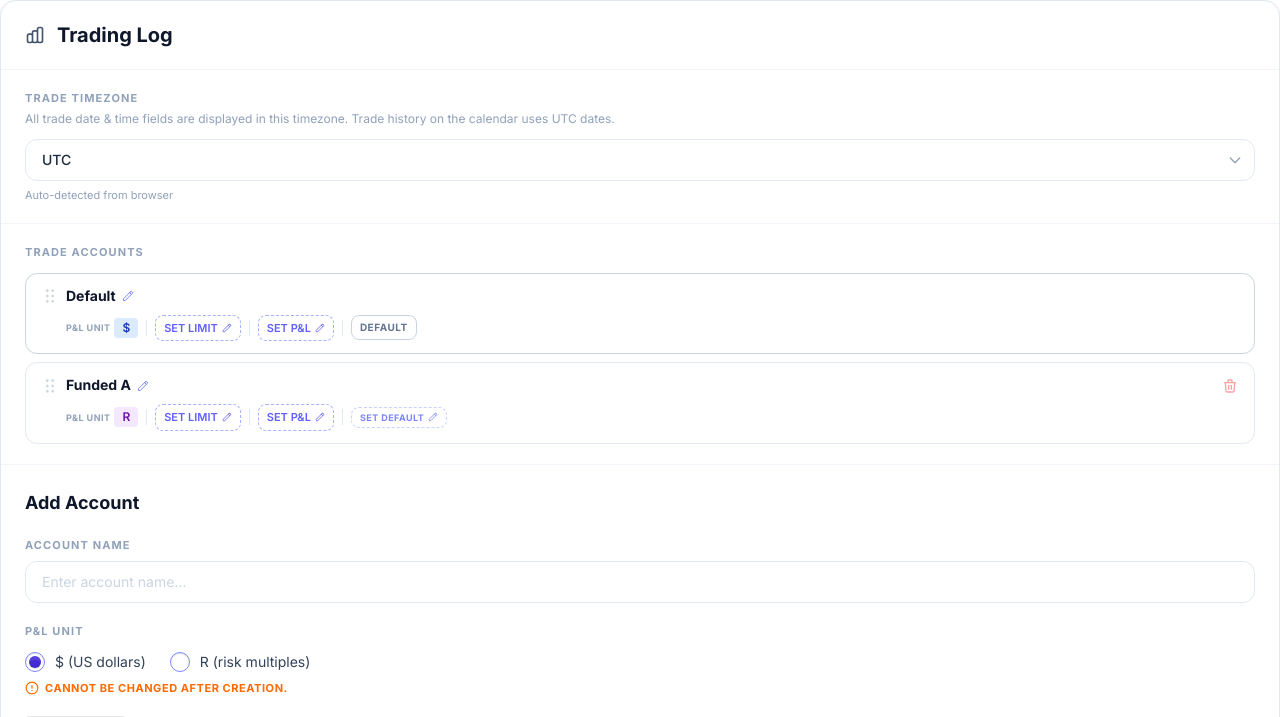
Test: TradingLogSettings › cancels delete on Cancel click
The image size is (1280, 717).
Expected: the text "Funded A" is shown, [66, 375, 131, 396]
Step 1. Click the button named "Delete Funded A" → (1230, 386), box [1222, 378, 1238, 394]
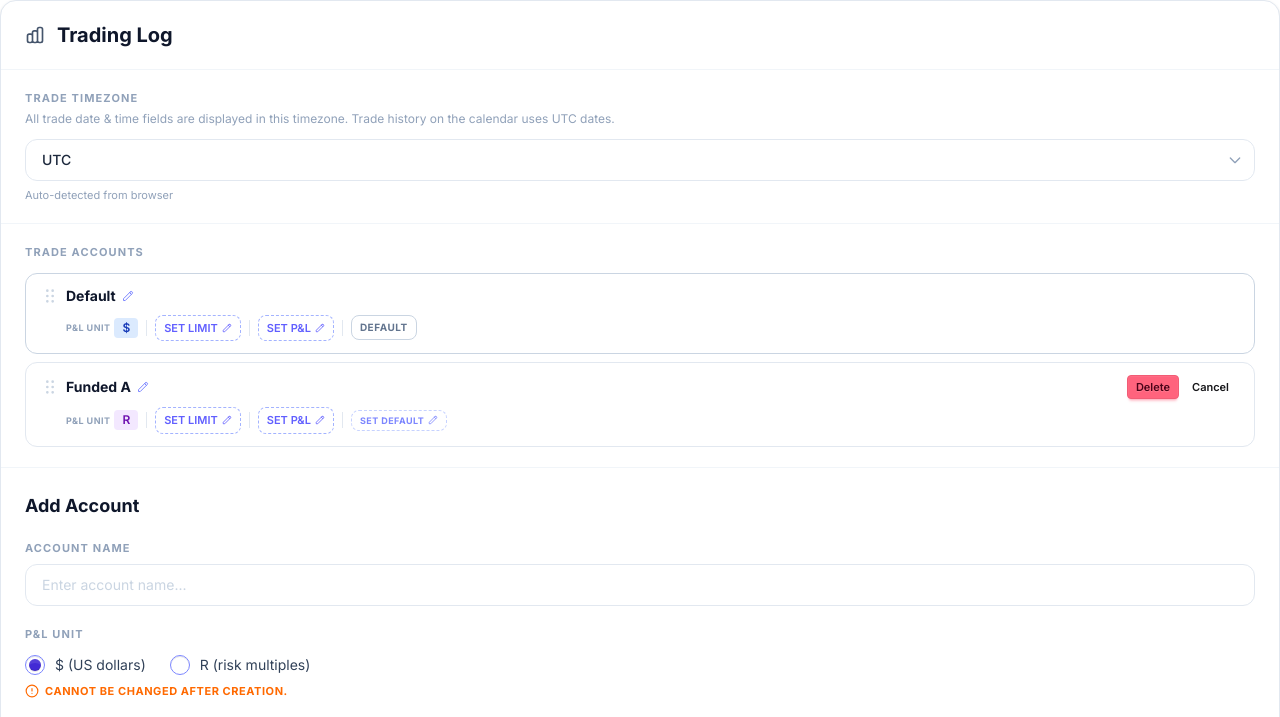
Step 2. Click the button "Cancel" → (1210, 387), box [1183, 375, 1238, 399]
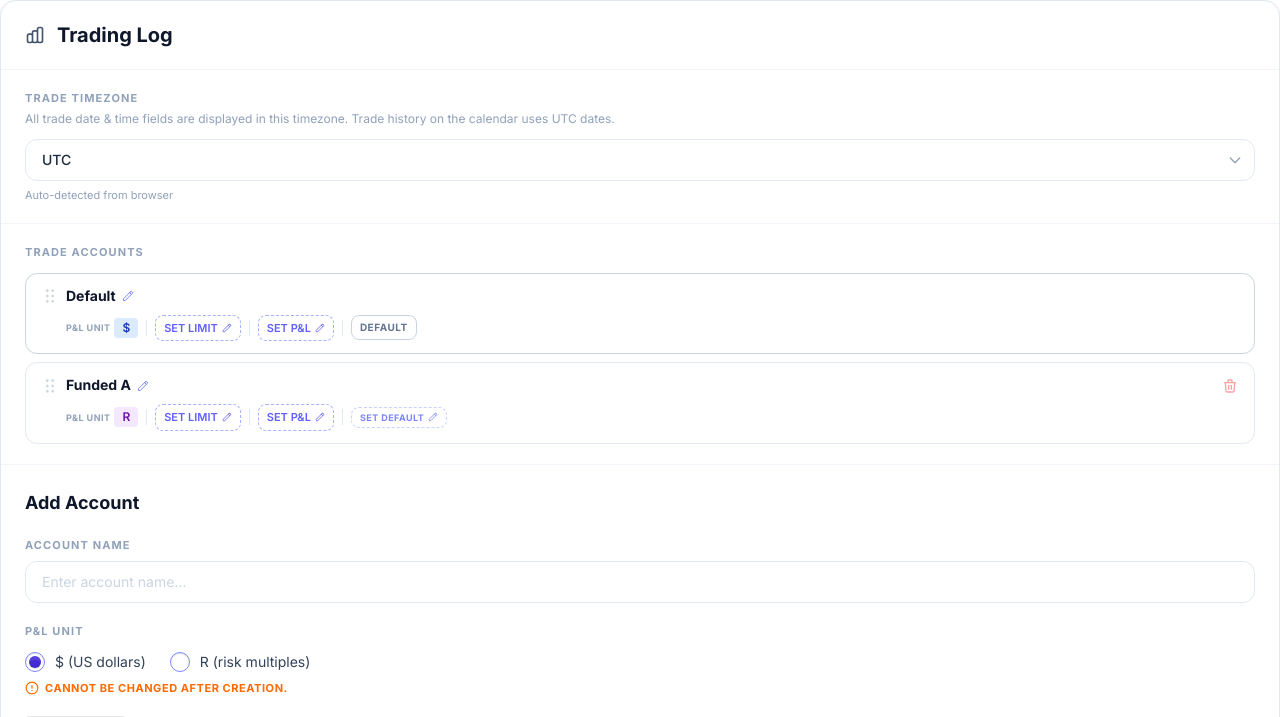
Now the button "Delete" is gone
